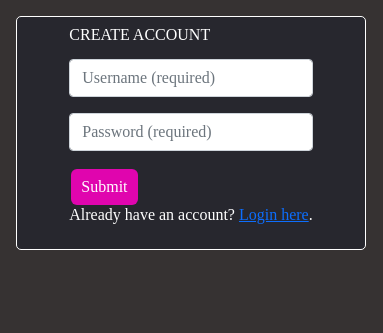
Test case: Create Account page tests › Form submission: account created
Check: the password field with test id "password-input-field" is shown, box [69,113,313,151]
Type "12345678" into the field with test id "username-input-field".
click(191, 78); type("12345678")  # box [69,59,313,97]
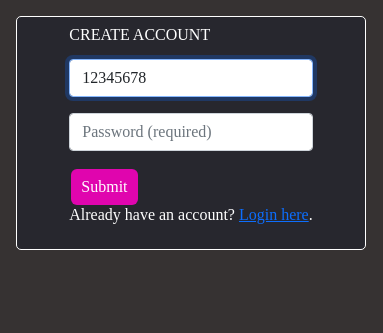
Type "12345678" into the password field with test id "password-input-field".
click(191, 132); type("12345678")  # box [69,113,313,151]
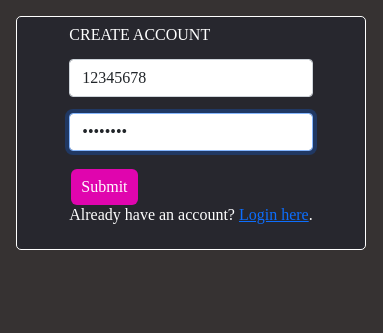
Click the button with test id "createaccount-form-submitButton".
click(104, 187)  # box [71,169,138,205]
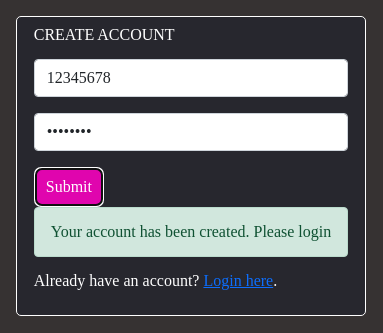
Check: the message "Your account has been created. Please login" is shown, box [34,207,348,257]
